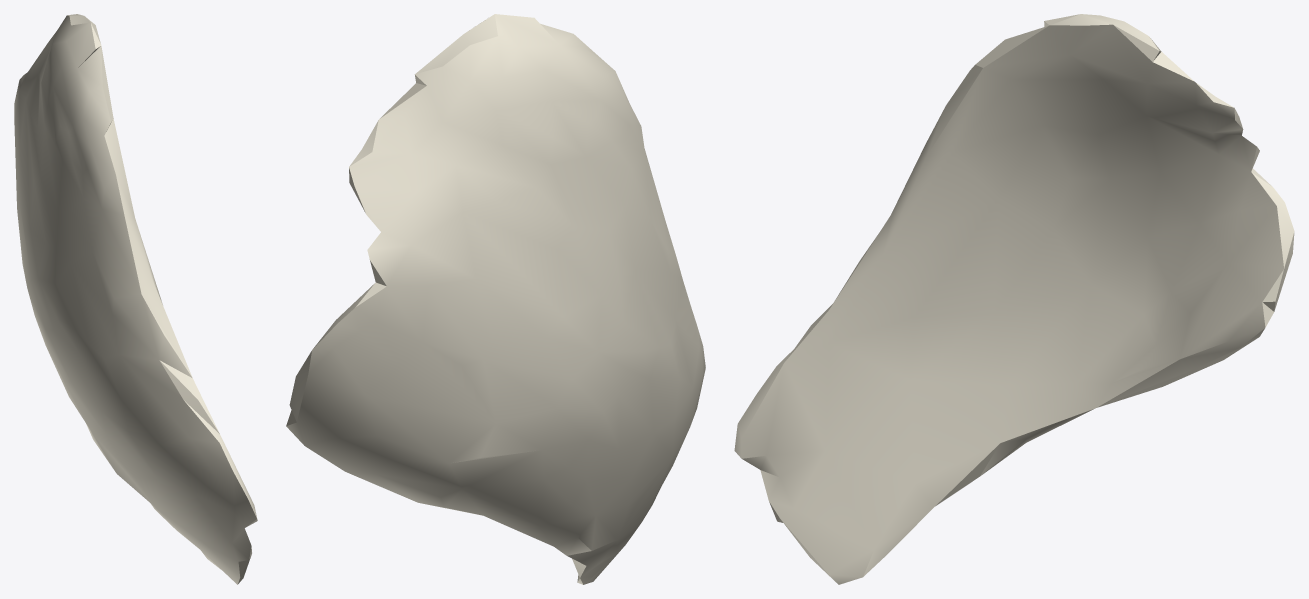
The model's file is fma321702-l_mm1443.glb.
3 renders of one model, left to right at view 1: azimuth 30°, elevation 25°; view 2: azimuth 150°, elevation 25°; view 3: azimuth 270°, elevation 25°, orthographic. The views are drawn at different scales.
Visible parts, largest first — view 1: FMA321702-L_MM1443; view 2: FMA321702-L_MM1443; view 3: FMA321702-L_MM1443.
Boxes of the visible parts, box(x1,y1,x2,y2) form: FMA321702-L_MM1443: box(14, 14, 257, 584); FMA321702-L_MM1443: box(286, 14, 705, 584); FMA321702-L_MM1443: box(734, 14, 1294, 584).
Size of the model in its own units: 0.00157 by 0.00568 by 0.00524.
